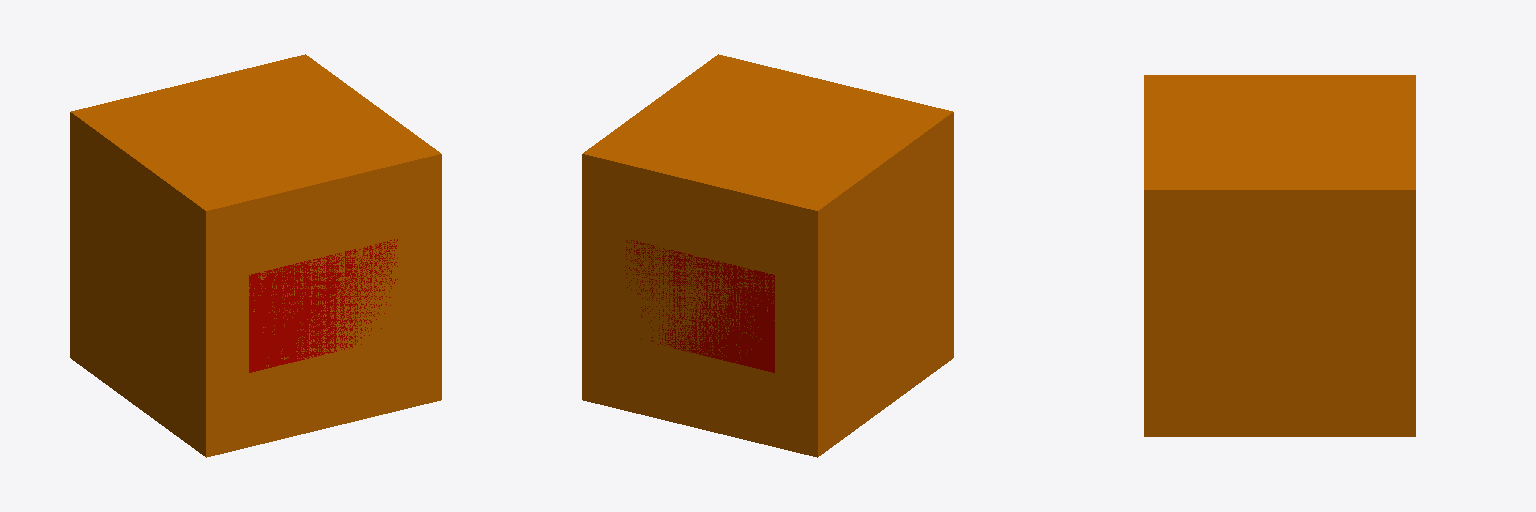
The model's file is environment.obj.
3 renders of one model, left to right at view 1: azimuth 30°, elevation 25°; view 2: azimuth 150°, elevation 25°; view 3: azimuth 270°, elevation 25°, orthographic.
Parts seen in each view (by area): view 1: spark, explosion; view 2: spark, explosion; view 3: spark.
Part boxes in pixels (bbox=[...]): spark: bbox=[70, 54, 441, 457]; explosion: bbox=[249, 239, 397, 372]; spark: bbox=[582, 54, 953, 457]; explosion: bbox=[625, 240, 774, 372]; spark: bbox=[1144, 75, 1415, 436].
Size of the model in its own units: 2 by 2 by 2.